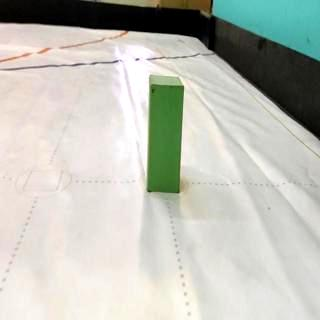greenbox: (147, 72, 186, 193)
